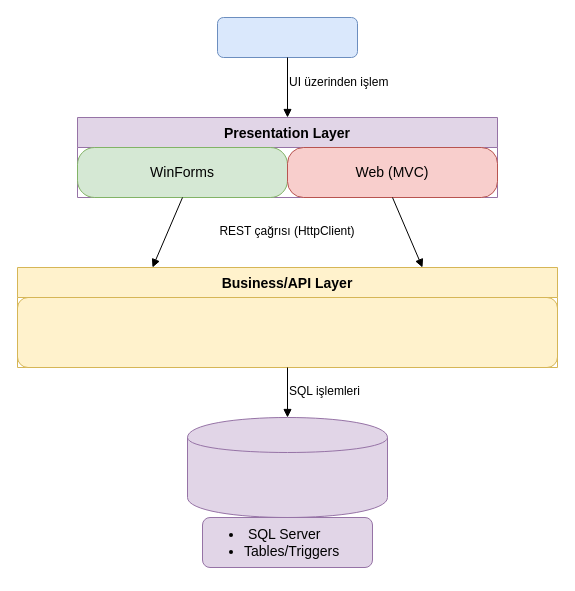
This 575x591 diagram has some shape labels left out. The shapes that lost their labels are listed below. From the top down, each one's centre as x and y in pixels, then its label:
At (x=287, y=37): "USER".
At (x=287, y=332): "Web API (Controllers, Services, Auth, DTO, Logging)".
At (x=287, y=467): "DataBase".
